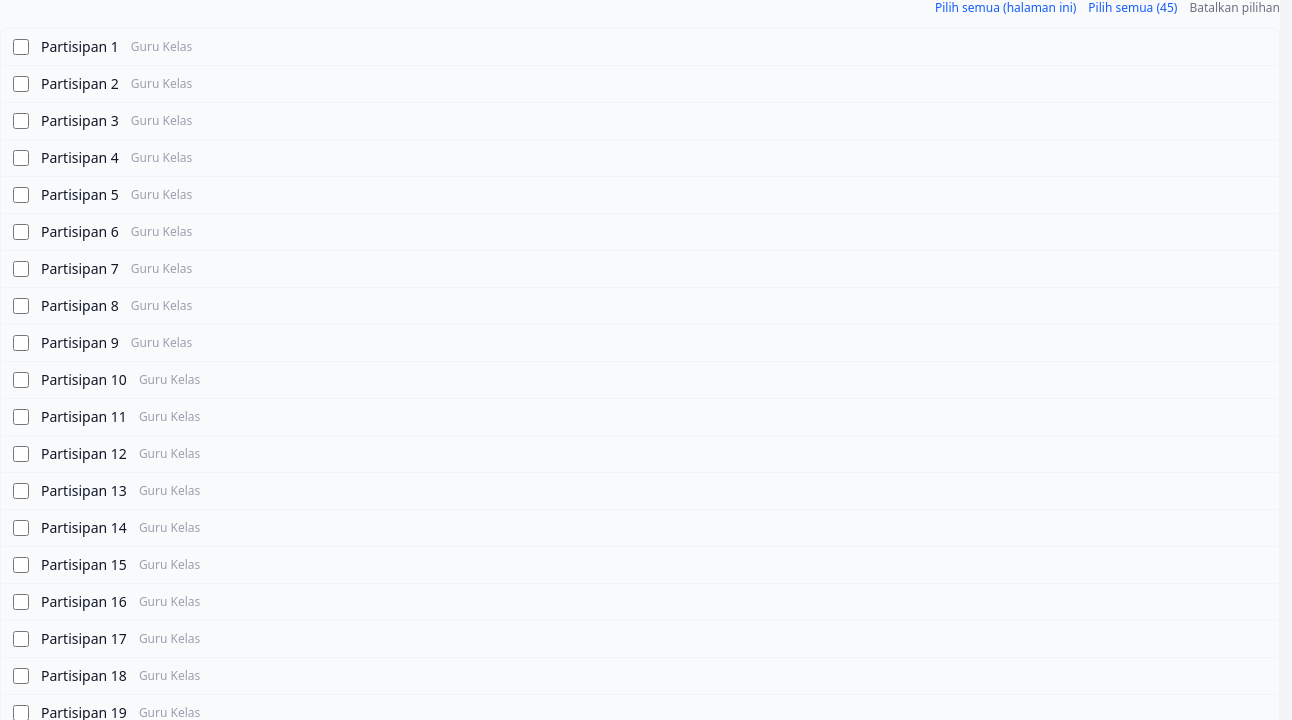
Test: DaftarPilihTerpaginasi › centangan halaman 1 masih ada setelah pindah halaman lalu kembali
Click the checkbox labelled "Partisipan 1 Guru Kelas" at (21, 47), box [13,39,29,55]
(page scrolled)
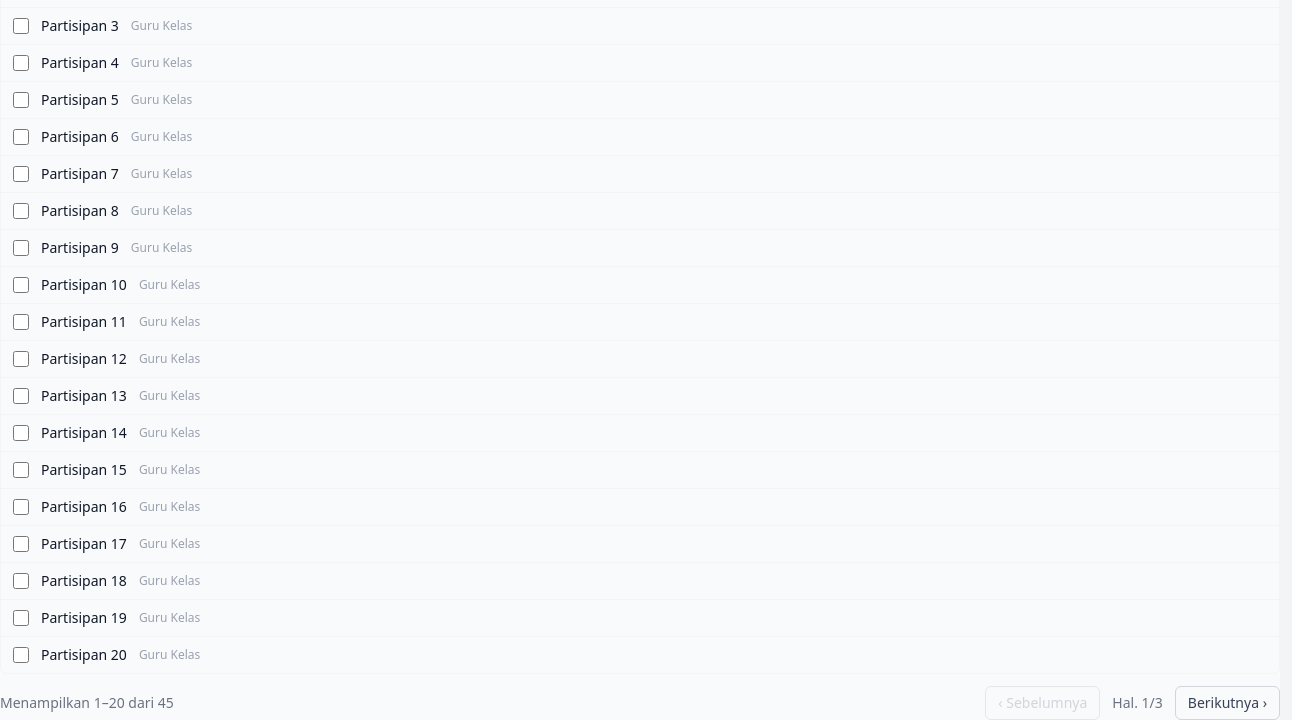
Click the button "Berikutnya ›" at (1227, 703), box [1175,686,1280,719]
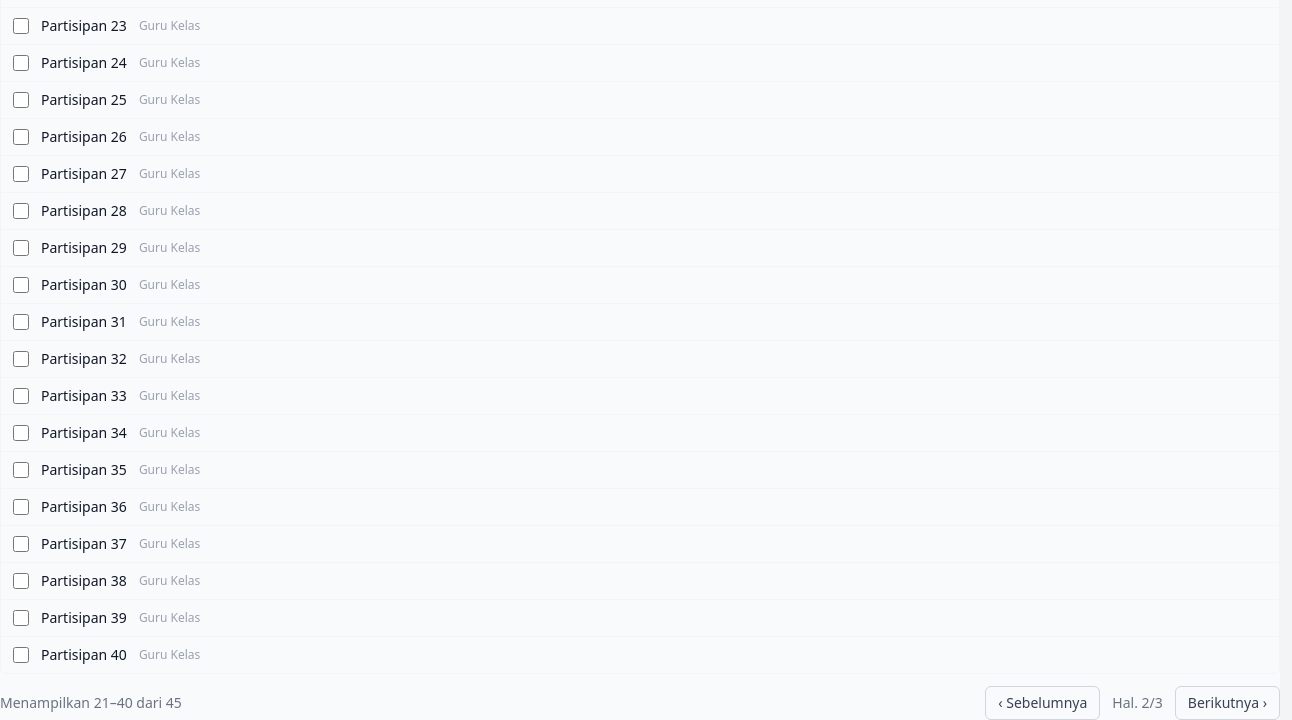
Click the button "‹ Sebelumnya" at (1043, 703), box [985,686,1100,719]
(page scrolled)
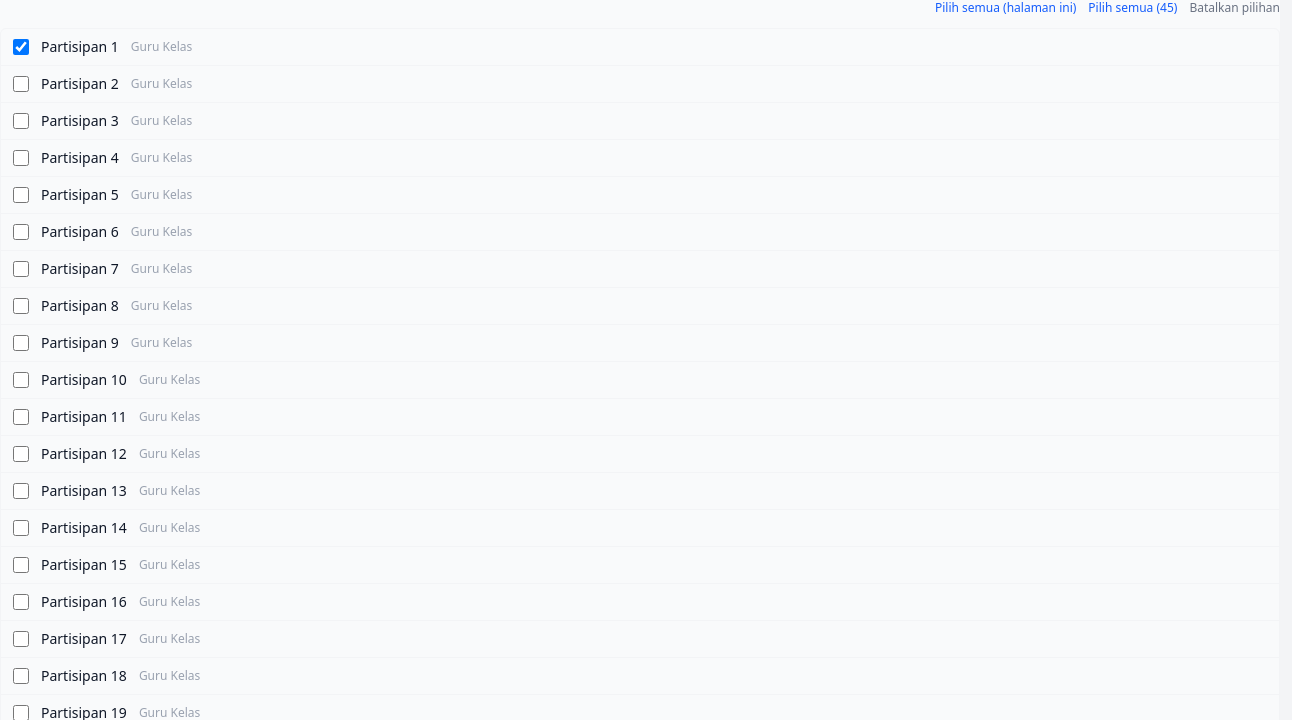
Expected: the checkbox labelled "Partisipan 1 Guru Kelas" is checked, [13,39,29,55]
